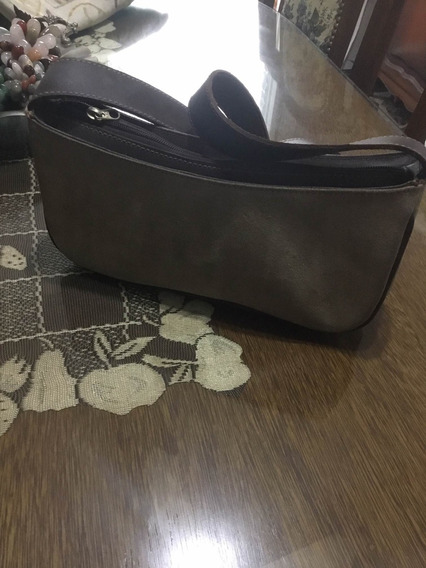cartera: (26, 56, 426, 337)
